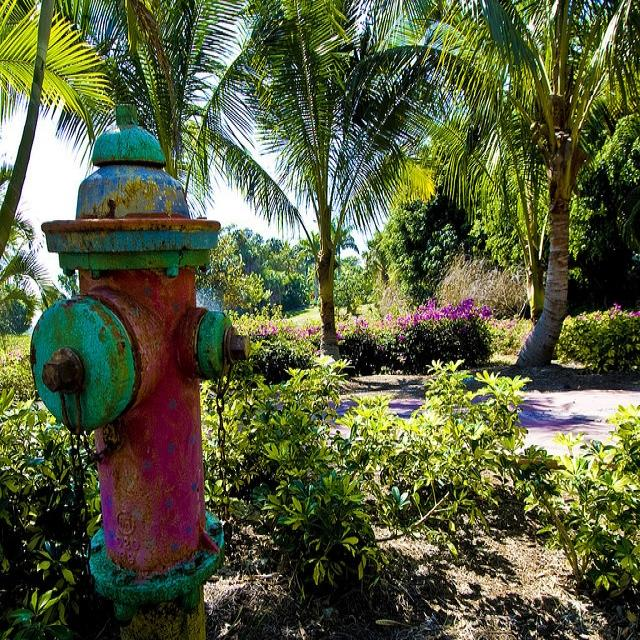fire_hydrant: (27, 100, 250, 624)
